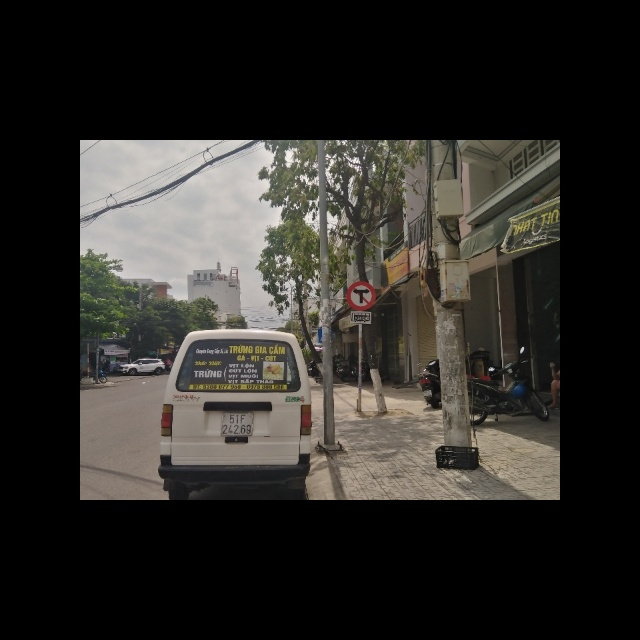Cấm rẽ trái và rẽ phải: (345, 280, 375, 311)
